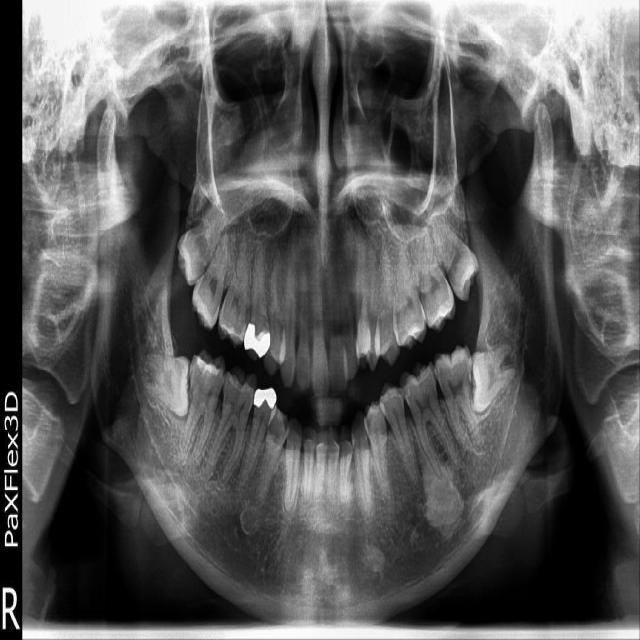3M ESPE Implant: (163, 185, 240, 292)
52: (187, 347, 228, 407), (252, 387, 278, 435), (244, 311, 270, 357)
73: (612, 589, 624, 599)
BioHorizons Implant: (412, 222, 458, 334)
BioLife Implant: (423, 201, 490, 306)
Biomet 3i Implant: (465, 343, 520, 415)
Blue Sky Bio Implant: (431, 343, 483, 451)
Caries: (184, 223, 241, 331)
Implant: (180, 347, 228, 466)
Keystone Dental Implant: (136, 353, 193, 418)
